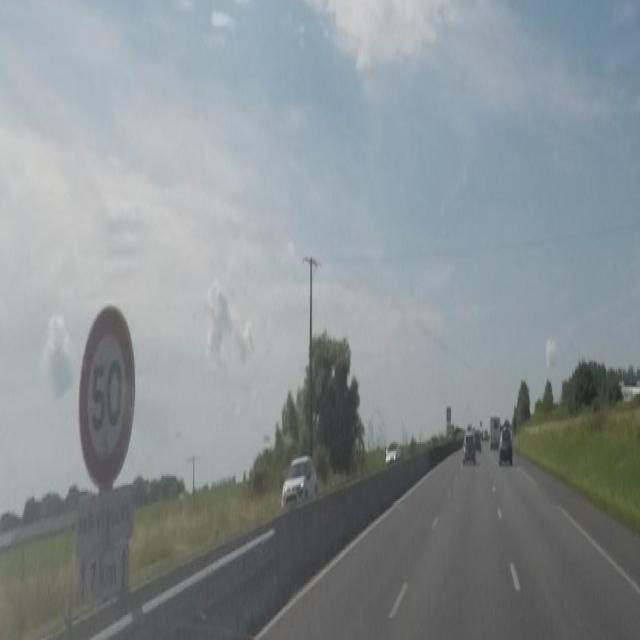speed_50: (79, 303, 136, 490)
